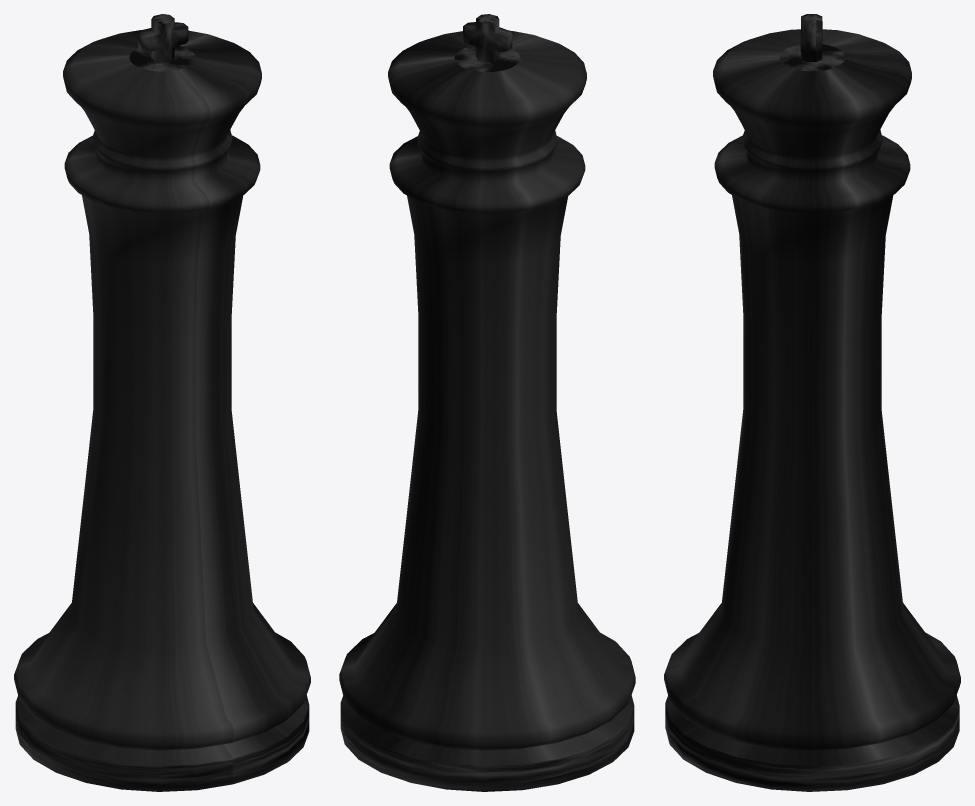
Rendered from black_king.obj.
3 views of the same model, side by side, from view 1: azimuth 30°, elevation 25°; view 2: azimuth 150°, elevation 25°; view 3: azimuth 270°, elevation 25° (orthographic).
Visible parts, largest first — view 1: King.001_Cylinder.035; view 2: King.001_Cylinder.035; view 3: King.001_Cylinder.035.
Part boxes in pixels (x1,y1,x2,y2): King.001_Cylinder.035: (14,14,310,791); King.001_Cylinder.035: (339,14,635,791); King.001_Cylinder.035: (664,14,960,791).
Bounding box in the file's own units: 1.51 × 4.01 × 1.51.
